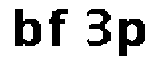3: (83, 4, 112, 48)
b: (12, 7, 45, 49)
f: (46, 5, 71, 46)
p: (114, 15, 149, 60)
